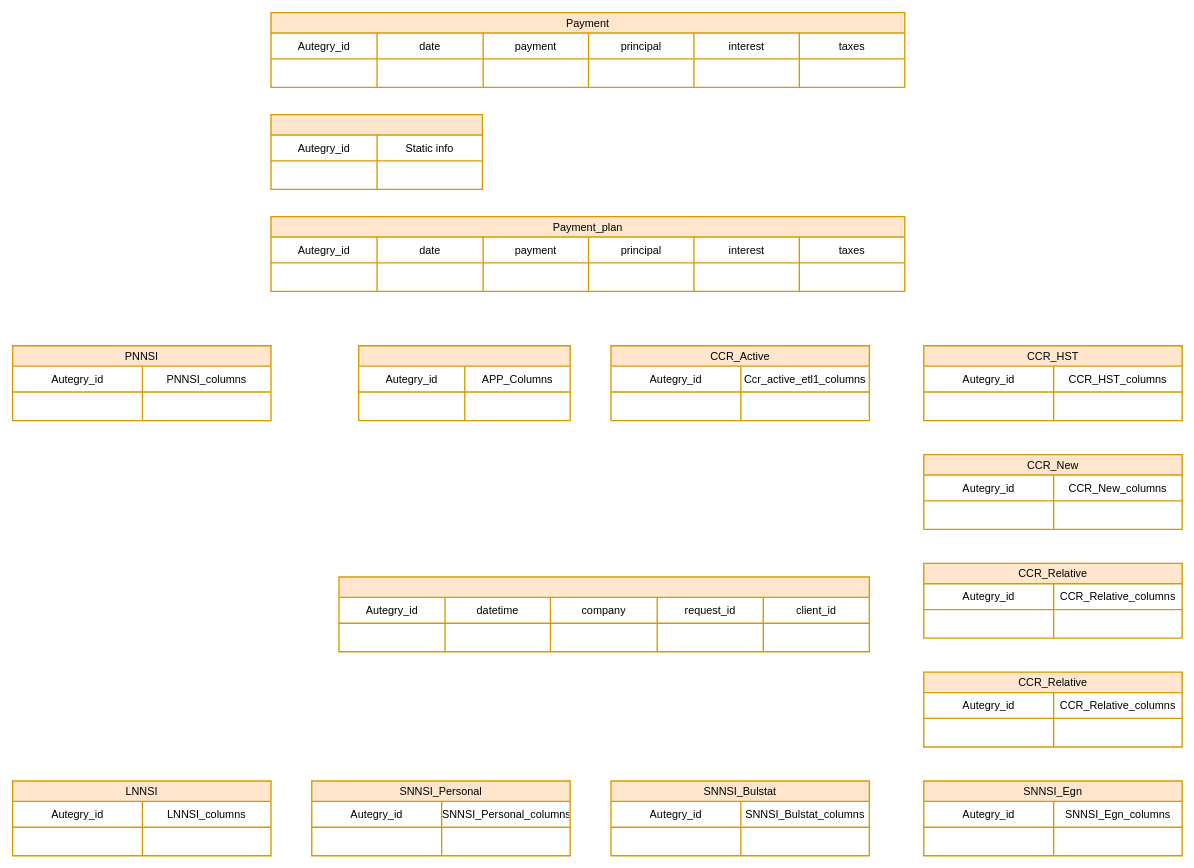
This 1194x868 diagram has some shape labels left out. The box of each missing label's shape, as (x1, y1, x2, y2) in pixels:
Application: (358, 345, 571, 421)
Main table: (338, 576, 870, 652)
Performance_static: (270, 114, 483, 190)
